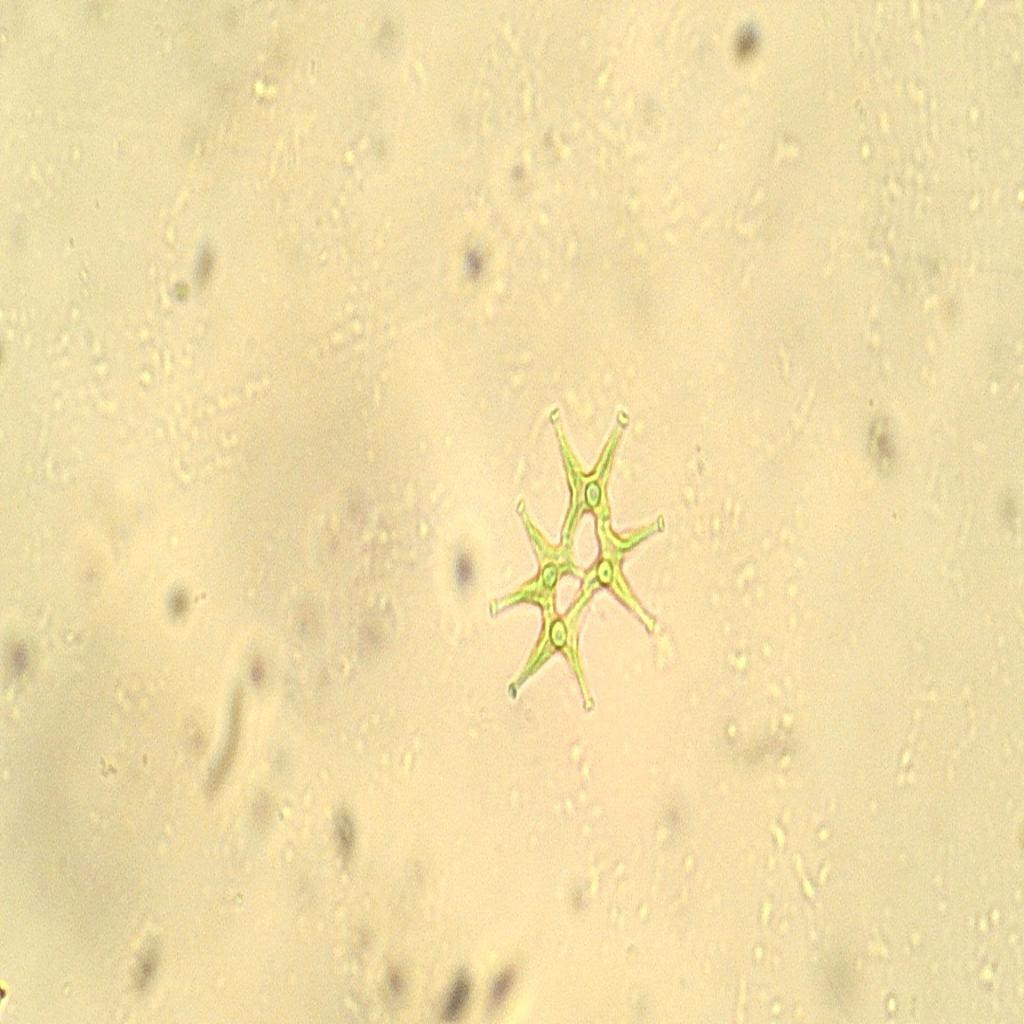Pediastrum_75FO: (457, 355, 689, 756)
